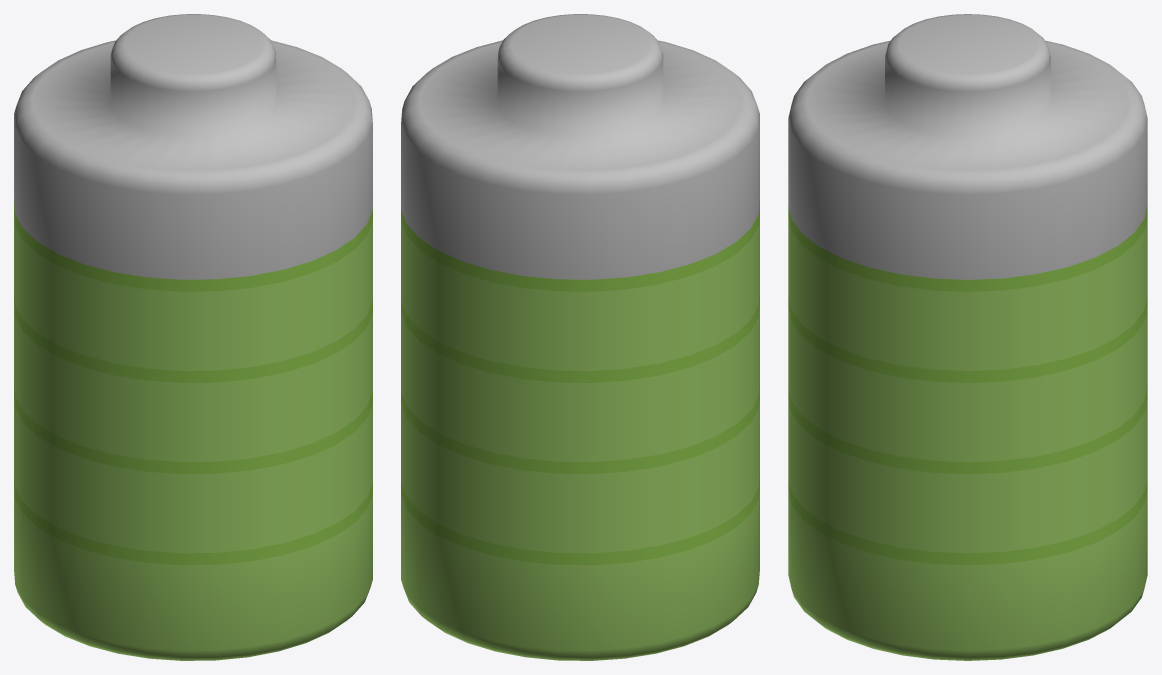
Rendered from battery.gltf.
3 renders of one model, left to right at view 1: azimuth 30°, elevation 25°; view 2: azimuth 150°, elevation 25°; view 3: azimuth 270°, elevation 25°, orthographic.
Visible parts, largest first — view 1: Cylinder.497; view 2: Cylinder.497; view 3: Cylinder.497.
Boxes of the visible parts, box(x1,y1,x2,y2) form: Cylinder.497: box(14, 14, 372, 660); Cylinder.497: box(401, 14, 759, 660); Cylinder.497: box(788, 14, 1147, 660).
Size of the model in its own units: 1.25 by 2.09 by 1.25.
Materials: 1 (1 with a texture image).
